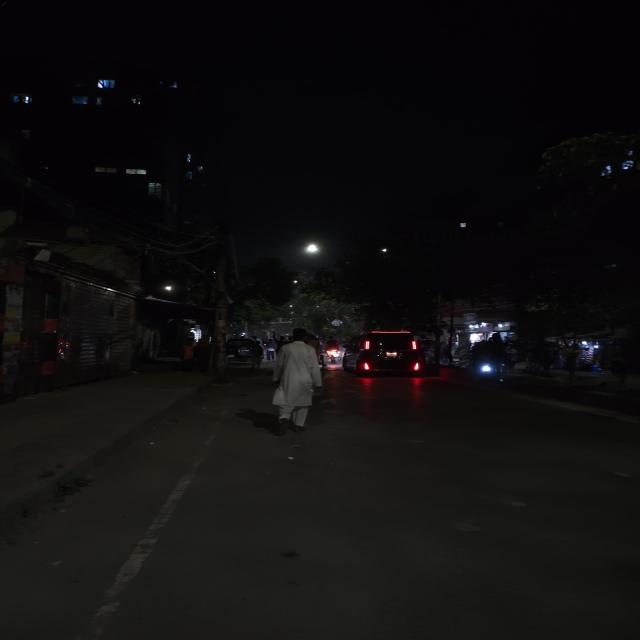car: (350, 328, 424, 377), (225, 334, 264, 372)
motorcycle: (324, 332, 342, 370)
pedestrian: (272, 329, 320, 428)
rickshaw: (467, 336, 522, 386)
